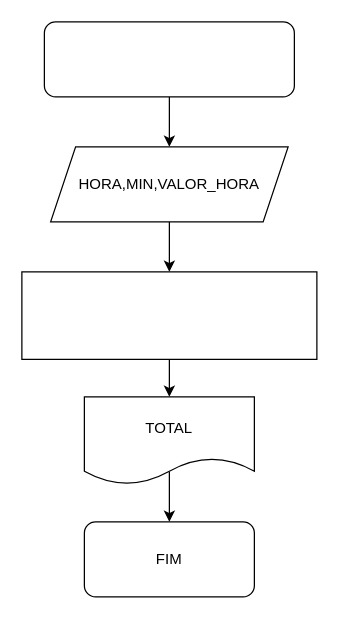
This 339x619 diagram has some shape labels left out. The box of each missing label's shape, as (x1, y1, x2, y2) in pixels:
FRAÇÃO = MIN/60 RESULT = HORAS + FRAÇÃO TOTAL = VALOR_HORA * RESULT * 1.7: (21, 271, 317, 359)
INICIO: (43, 21, 294, 97)
